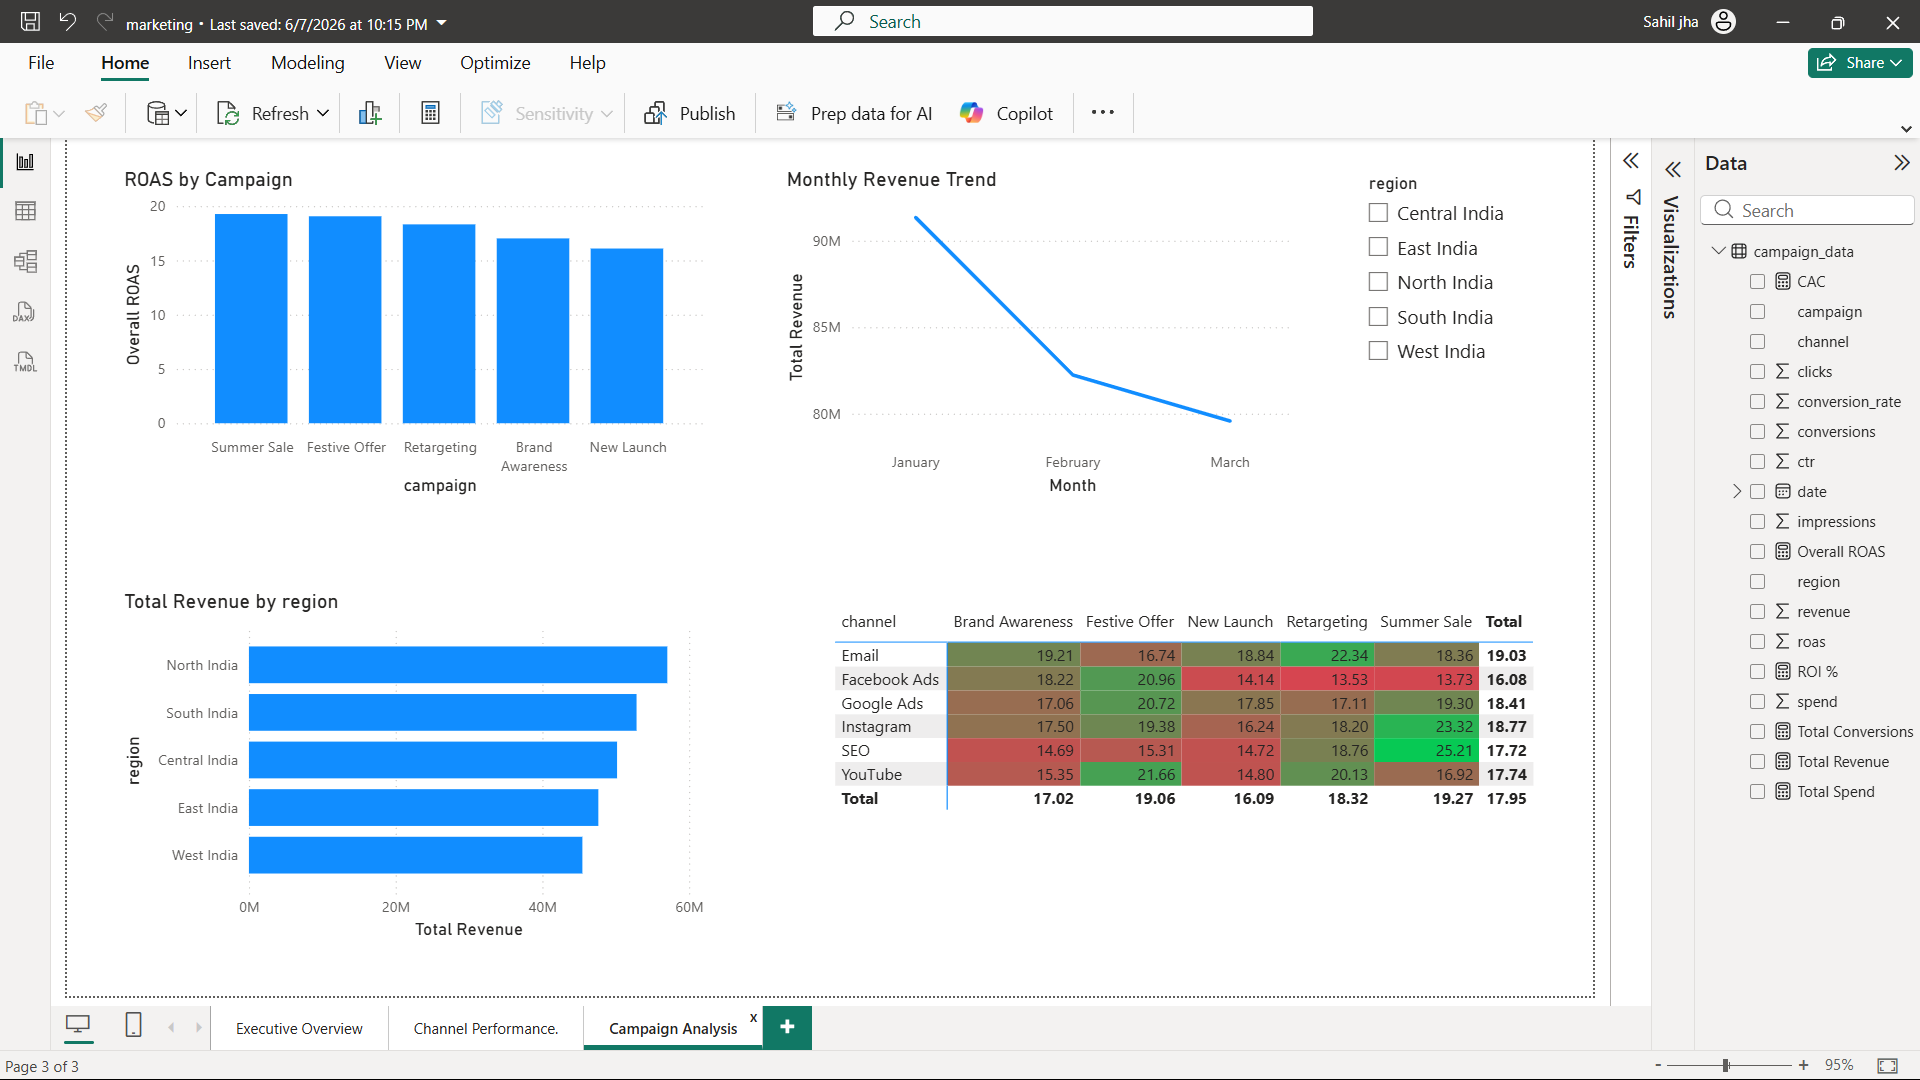

The page's visual inventory and layout, read from the dashboard file:
{"tool":"powerbi","page":{"name":"Campaign Analysis","canvas":[1280,720],"ordinal":2},"visuals":[{"type":"columnChart","title":"ROAS by Campaign","fields":{"Category":["campaign_data.campaign"],"Y":["campaign_data.Overall ROAS"]},"box":[42.9,24.5,495.9,280.1],"z":0},{"type":"pivotTable","fields":{"Rows":["campaign_data.channel"],"Columns":["campaign_data.campaign"],"Values":["campaign_data.Overall ROAS"]},"box":[639.8,388.8,619.9,287.8],"z":1},{"type":"barChart","fields":{"Y":["campaign_data.Total Revenue"],"Category":["campaign_data.region"]},"box":[42.9,378.1,495.9,298.5],"z":2},{"type":"lineChart","title":"Monthly Revenue Trend","fields":{"Y":["campaign_data.Total Revenue"],"Category":["campaign_data.date.Variation.Date Hierarchy.Month"]},"box":[598.5,24.5,434.7,280.1],"z":3},{"type":"slicer","fields":{"Values":["campaign_data.region"]},"box":[1079.1,24.5,200.5,244.9],"z":4}]}

Visuals, with their boxes on the page's 1280x720 design canvas (x1, y1, x2, y2). These are canvas units, not pixel positions in the 1920x1080 screenshot, which may show the page scaled, cropped or inside an application window:
"ROAS by Campaign" columnChart: select_region(43, 24, 539, 305)
pivotTable - campaign_data.channel x campaign_data.campaign: select_region(640, 389, 1260, 677)
barChart - campaign_data.Total Revenue x campaign_data.region: select_region(43, 378, 539, 677)
"Monthly Revenue Trend" lineChart: select_region(598, 24, 1033, 305)
slicer - campaign_data.region: select_region(1079, 24, 1280, 269)
